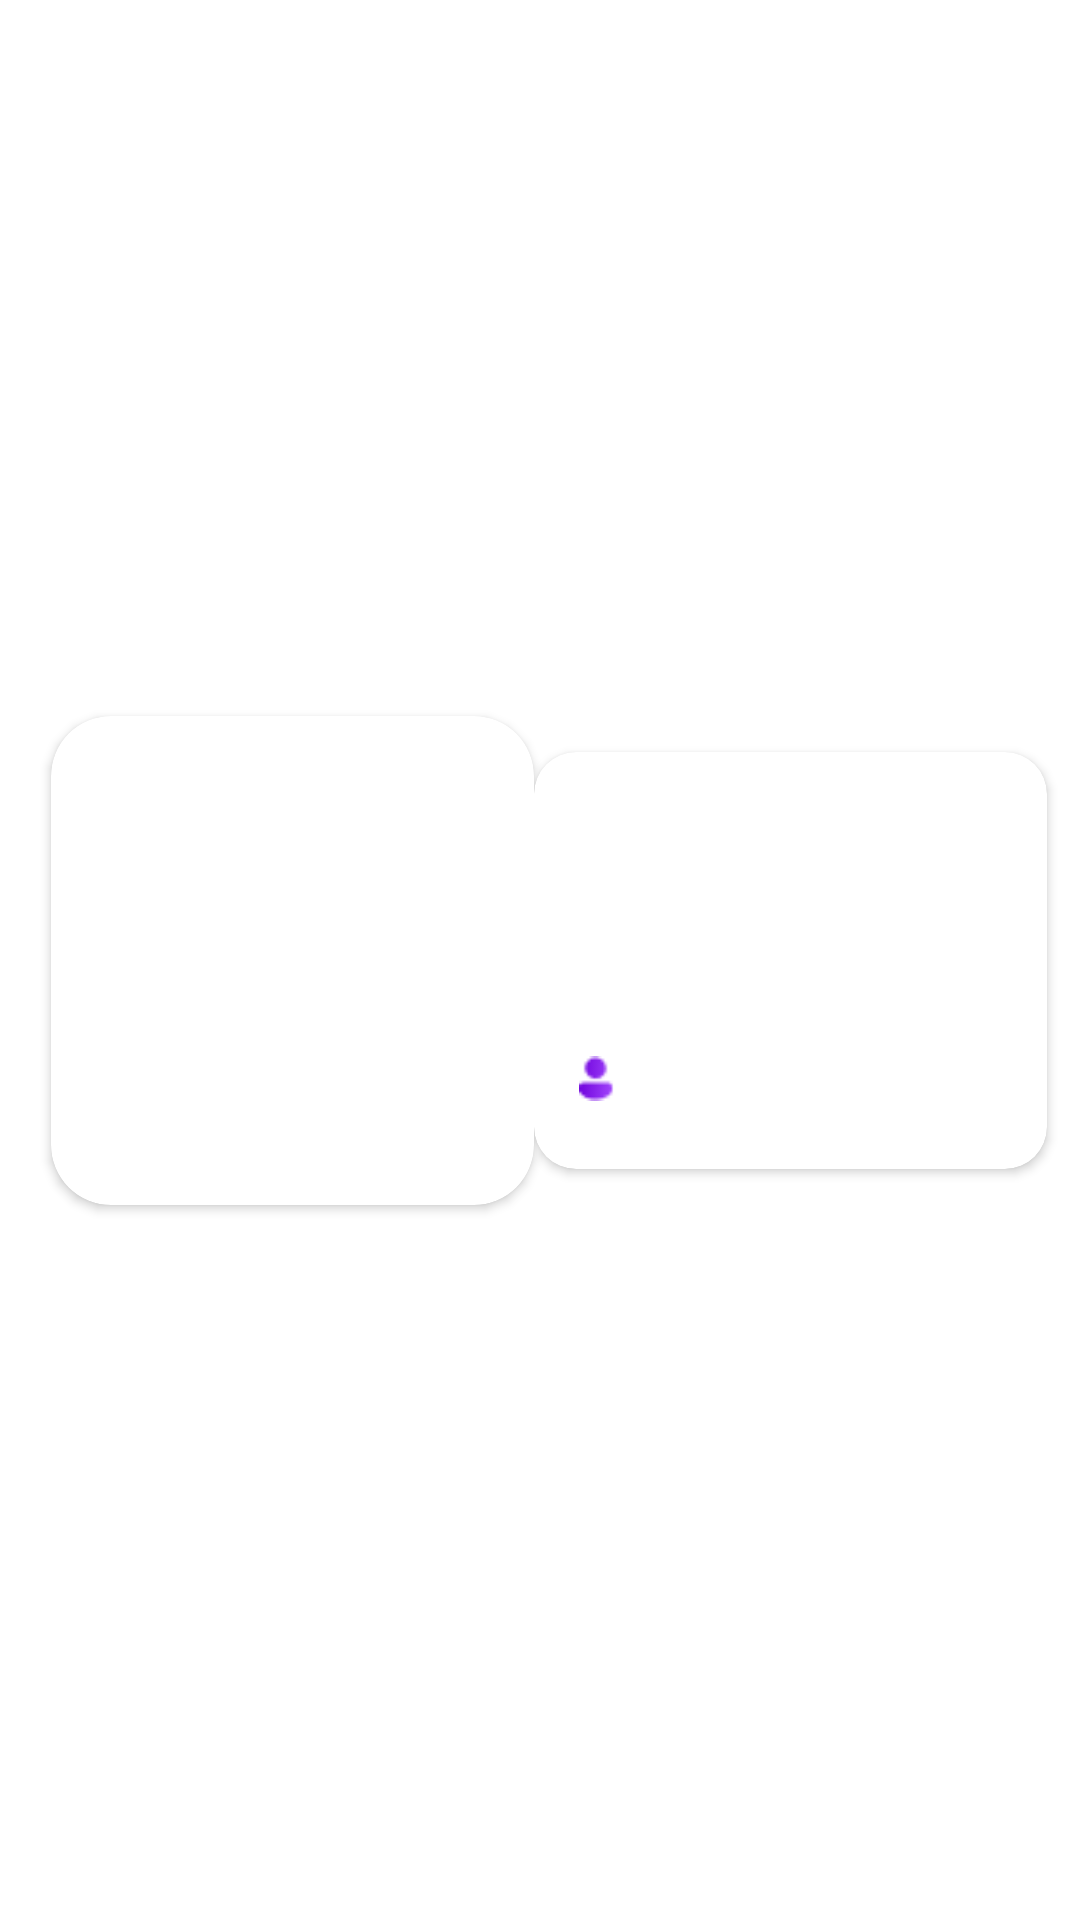

Screen size 1080×1920. Icon name, then its box in pixels as detection(x1, y1, x2, y2):
person: detection(579, 1056, 613, 1101)
